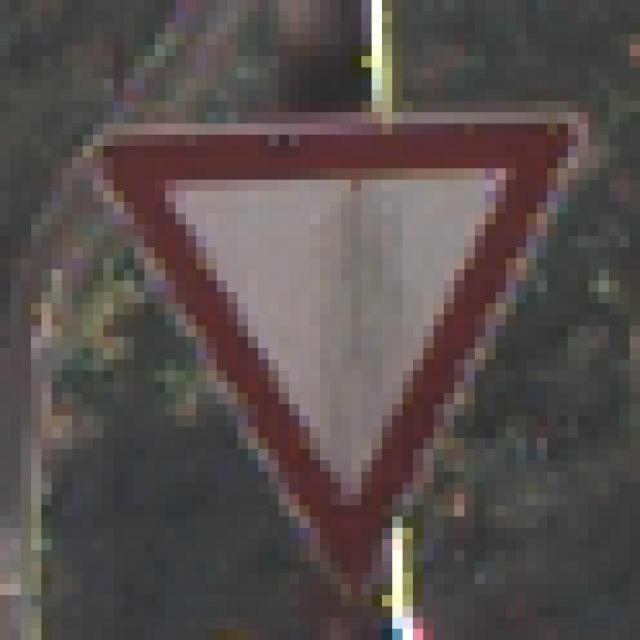Give Way: (63, 68, 589, 585)
